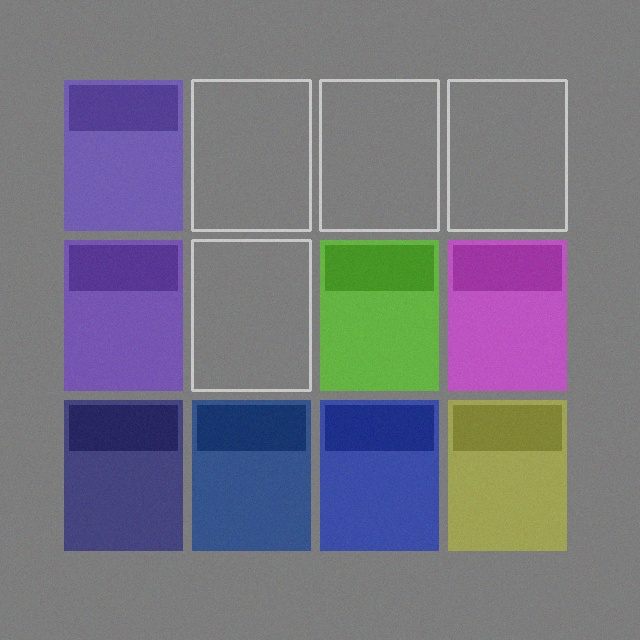space-empty: (192, 80, 310, 230), (320, 80, 438, 230), (448, 80, 566, 230), (192, 240, 310, 390)
space-occupied: (64, 80, 182, 230), (64, 240, 182, 390), (320, 240, 438, 390), (448, 240, 566, 390), (64, 400, 182, 550), (192, 400, 310, 550), (320, 400, 438, 550), (448, 400, 566, 550)
